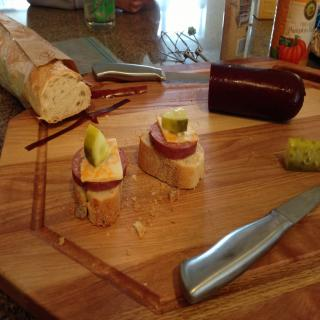Bread: (0, 24, 94, 124), (138, 130, 205, 188), (74, 180, 123, 228)
